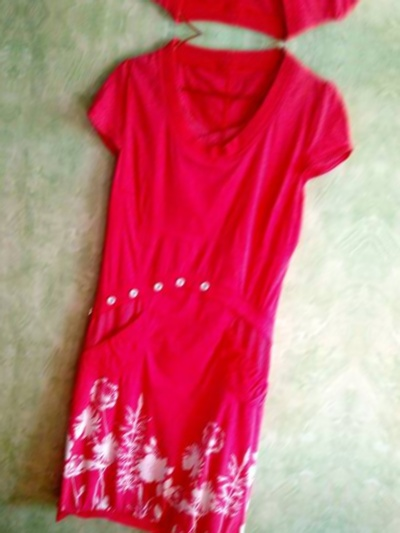Dress: (1, 16, 351, 533), (68, 0, 400, 53), (372, 64, 400, 533), (0, 0, 41, 4)
